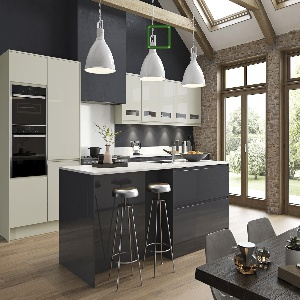square: (146, 23, 173, 51)
